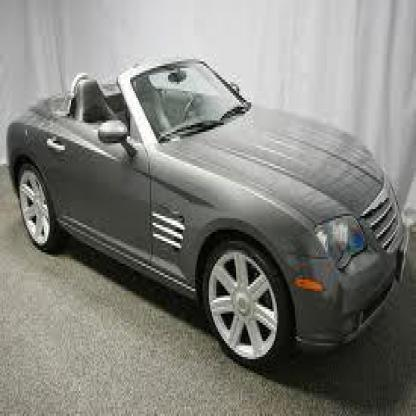Vehicle: (6, 57, 408, 375)
